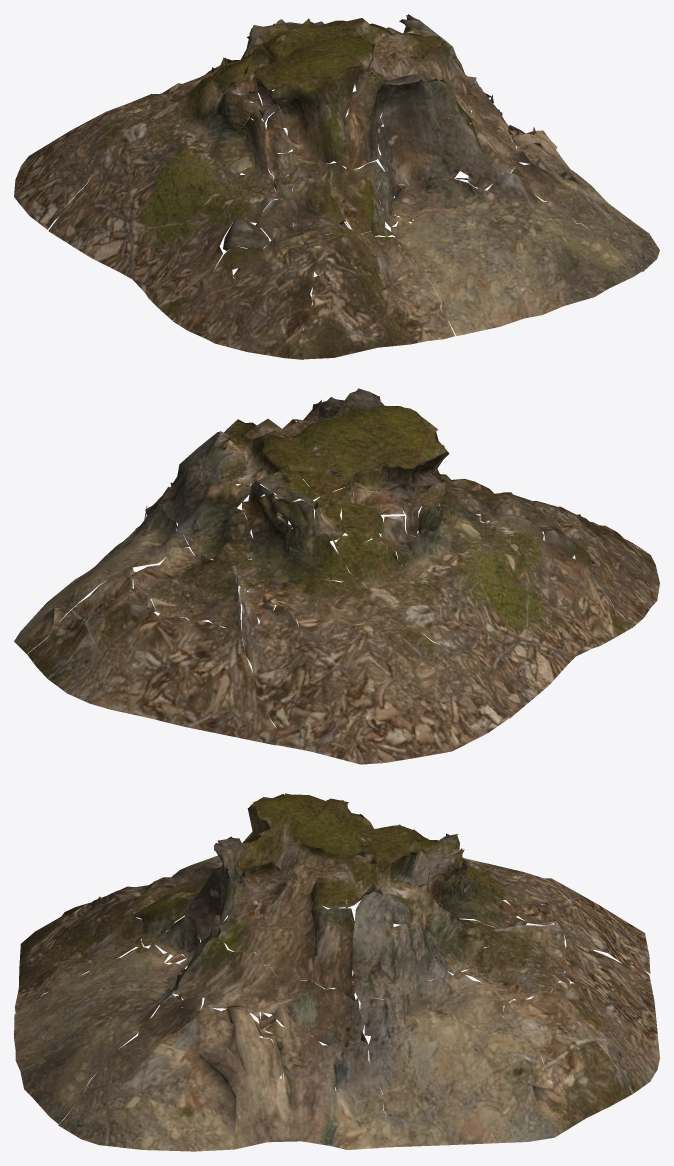
File: tree_stump_01_1k.gltf.lod.glb
The picture shows the model from 3 angles, top to bottom: view 1: azimuth 30°, elevation 25°; view 2: azimuth 150°, elevation 25°; view 3: azimuth 270°, elevation 25°; orthographic projection. The views are drawn at different scales.
Visible parts, largest first — view 1: tree_stump_01; view 2: tree_stump_01; view 3: tree_stump_01.
Part boxes in pixels (x1,y1,x2,y2): tree_stump_01: (14, 14, 659, 359); tree_stump_01: (14, 388, 659, 764); tree_stump_01: (14, 793, 659, 1151).
Bounding box in the file's own units: 1.42 × 0.571 × 1.59.
Materials: 1 (1 with a texture image).
